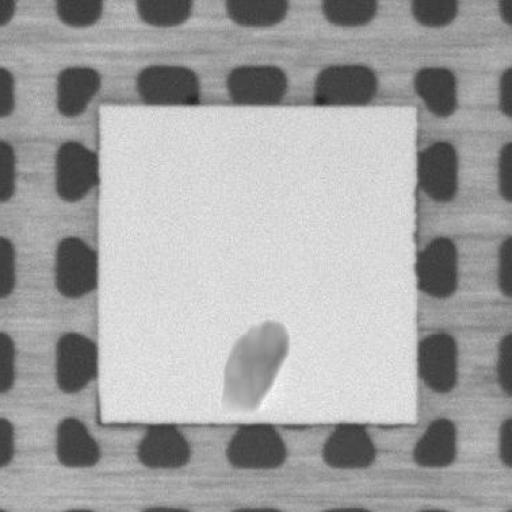DIE_INK: (212, 316, 288, 416)
